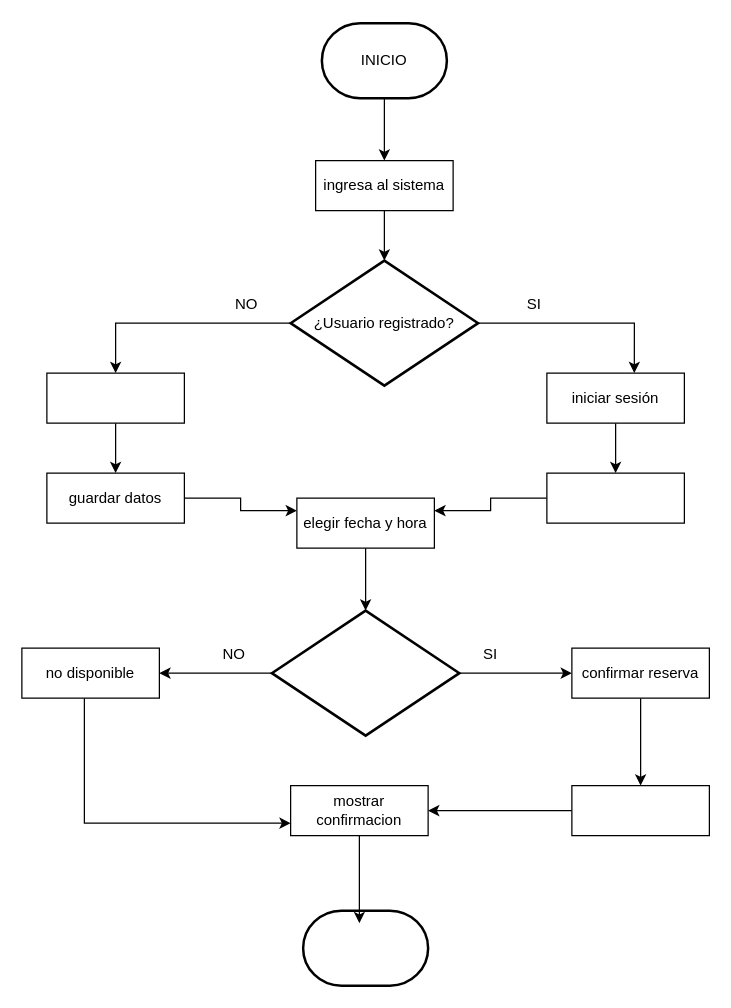
The diagram is 731 pixels wide and 1008 high, and some of its shapes have lost their labels. The centre of each missing label's shape, as x and y in pixels:
disponibilidad: point (365, 672)
FIN: point (365, 947)
guardar reserva: point (640, 810)
registrar usuario: point (115, 397)
seleccionar servicio: point (615, 497)
